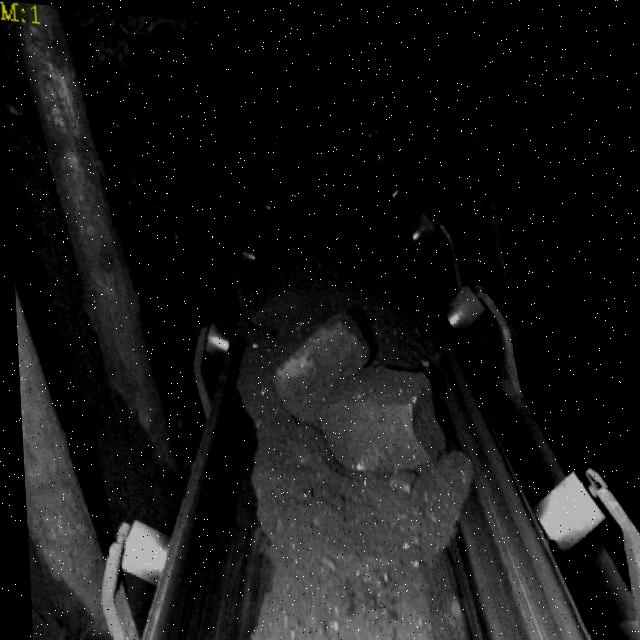large_sized_coal: (317, 356, 441, 476), (269, 297, 377, 427)
